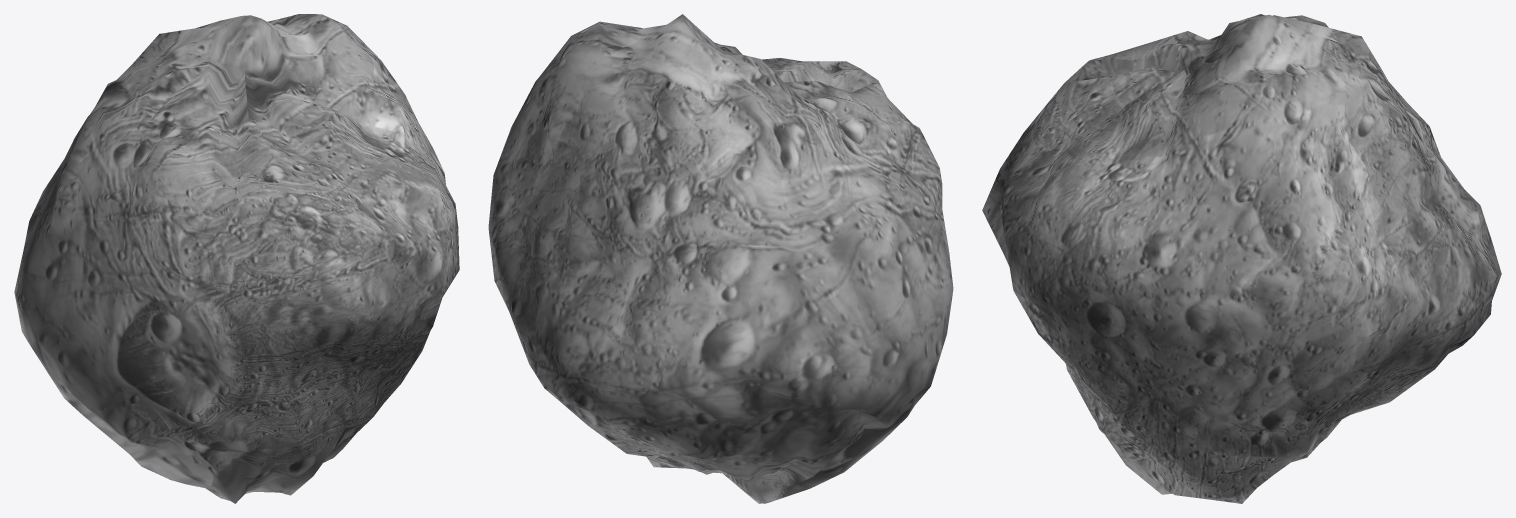
Rendered from Asteroid-2.FBX.
The picture shows the model from 3 angles, left to right: view 1: azimuth 30°, elevation 25°; view 2: azimuth 150°, elevation 25°; view 3: azimuth 270°, elevation 25°; orthographic projection. The views are drawn at different scales.
Visible parts, largest first — view 1: Sphere001; view 2: Sphere001; view 3: Sphere001.
Boxes of the visible parts, <box> form: Sphere001: <box>14,14,459,503</box>; Sphere001: <box>488,14,953,503</box>; Sphere001: <box>982,14,1501,503</box>.
Size of the model in its own units: 7.58 by 8.58 by 8.17.
